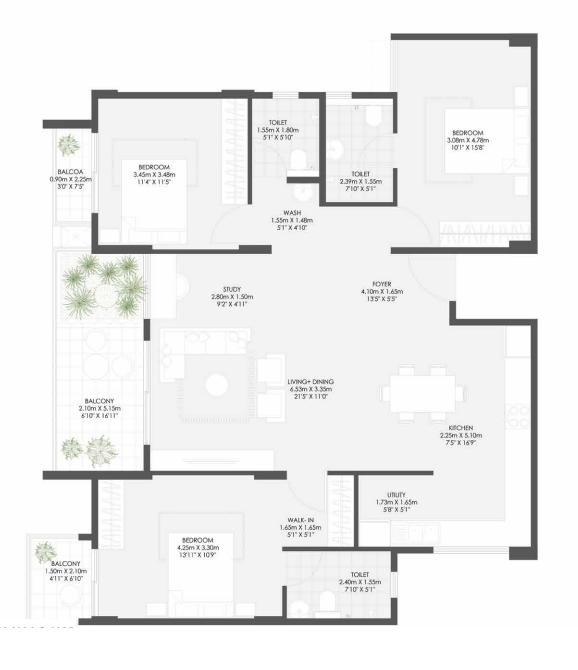Balcony: (54, 250, 147, 476), (27, 538, 94, 625)
Bed: (166, 532, 235, 622), (119, 160, 184, 249), (445, 110, 531, 172)
Bedroom: (393, 39, 530, 251), (94, 478, 284, 620), (99, 98, 249, 252), (406, 257, 452, 301), (390, 205, 436, 247), (206, 207, 246, 247), (292, 469, 328, 508), (287, 552, 324, 587)
Dining Room: (310, 328, 471, 466)
Dining table: (372, 360, 467, 428)
Foyer: (306, 254, 451, 323)
Kitchen: (436, 325, 536, 550)
Living Room: (149, 327, 309, 469)
Sofa: (162, 329, 251, 353), (258, 354, 284, 422), (161, 330, 186, 387)
Wardrobe: (221, 98, 248, 209), (437, 223, 505, 253), (329, 479, 354, 550)
balcoa: (55, 128, 93, 227)
fridge: (503, 324, 532, 358)
study: (147, 254, 301, 323)
toilet: (288, 550, 393, 618), (328, 101, 395, 201), (251, 98, 325, 182)
tv: (153, 451, 269, 470)
utility: (357, 478, 433, 545)
walkin: (286, 477, 355, 548)
wash: (251, 186, 318, 248)
washing-machine: (359, 521, 391, 547)
